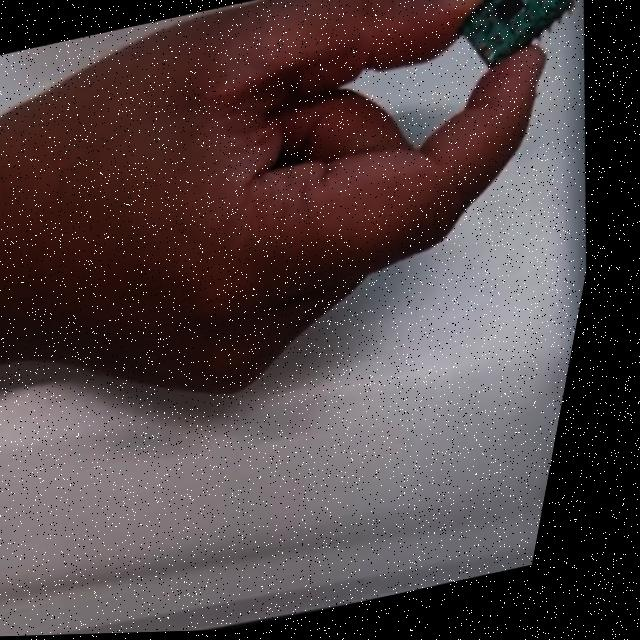Chip: (435, 0, 582, 74)
